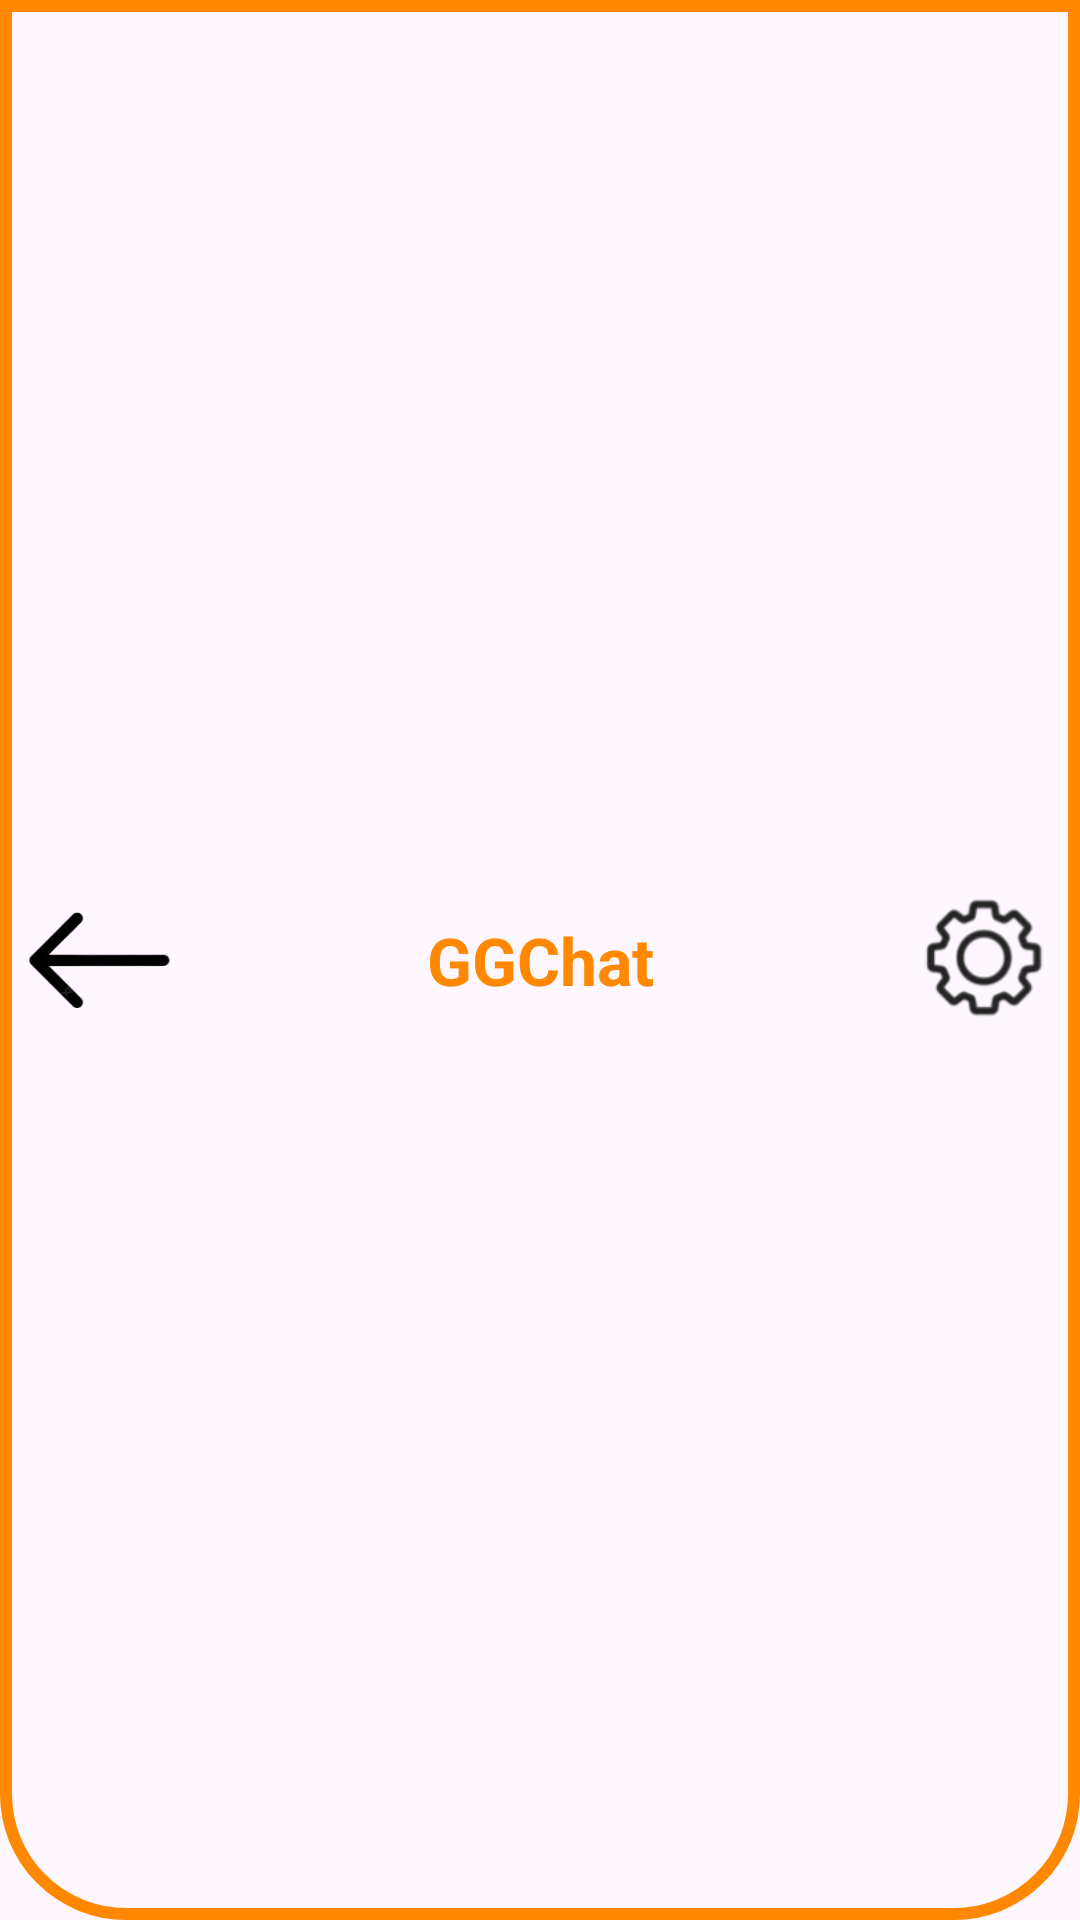

Icons on this 1080x1920 Android screen, each with its box as bbox(x1, y1, x2, y2):
setting: bbox(926, 899, 1042, 1016)
